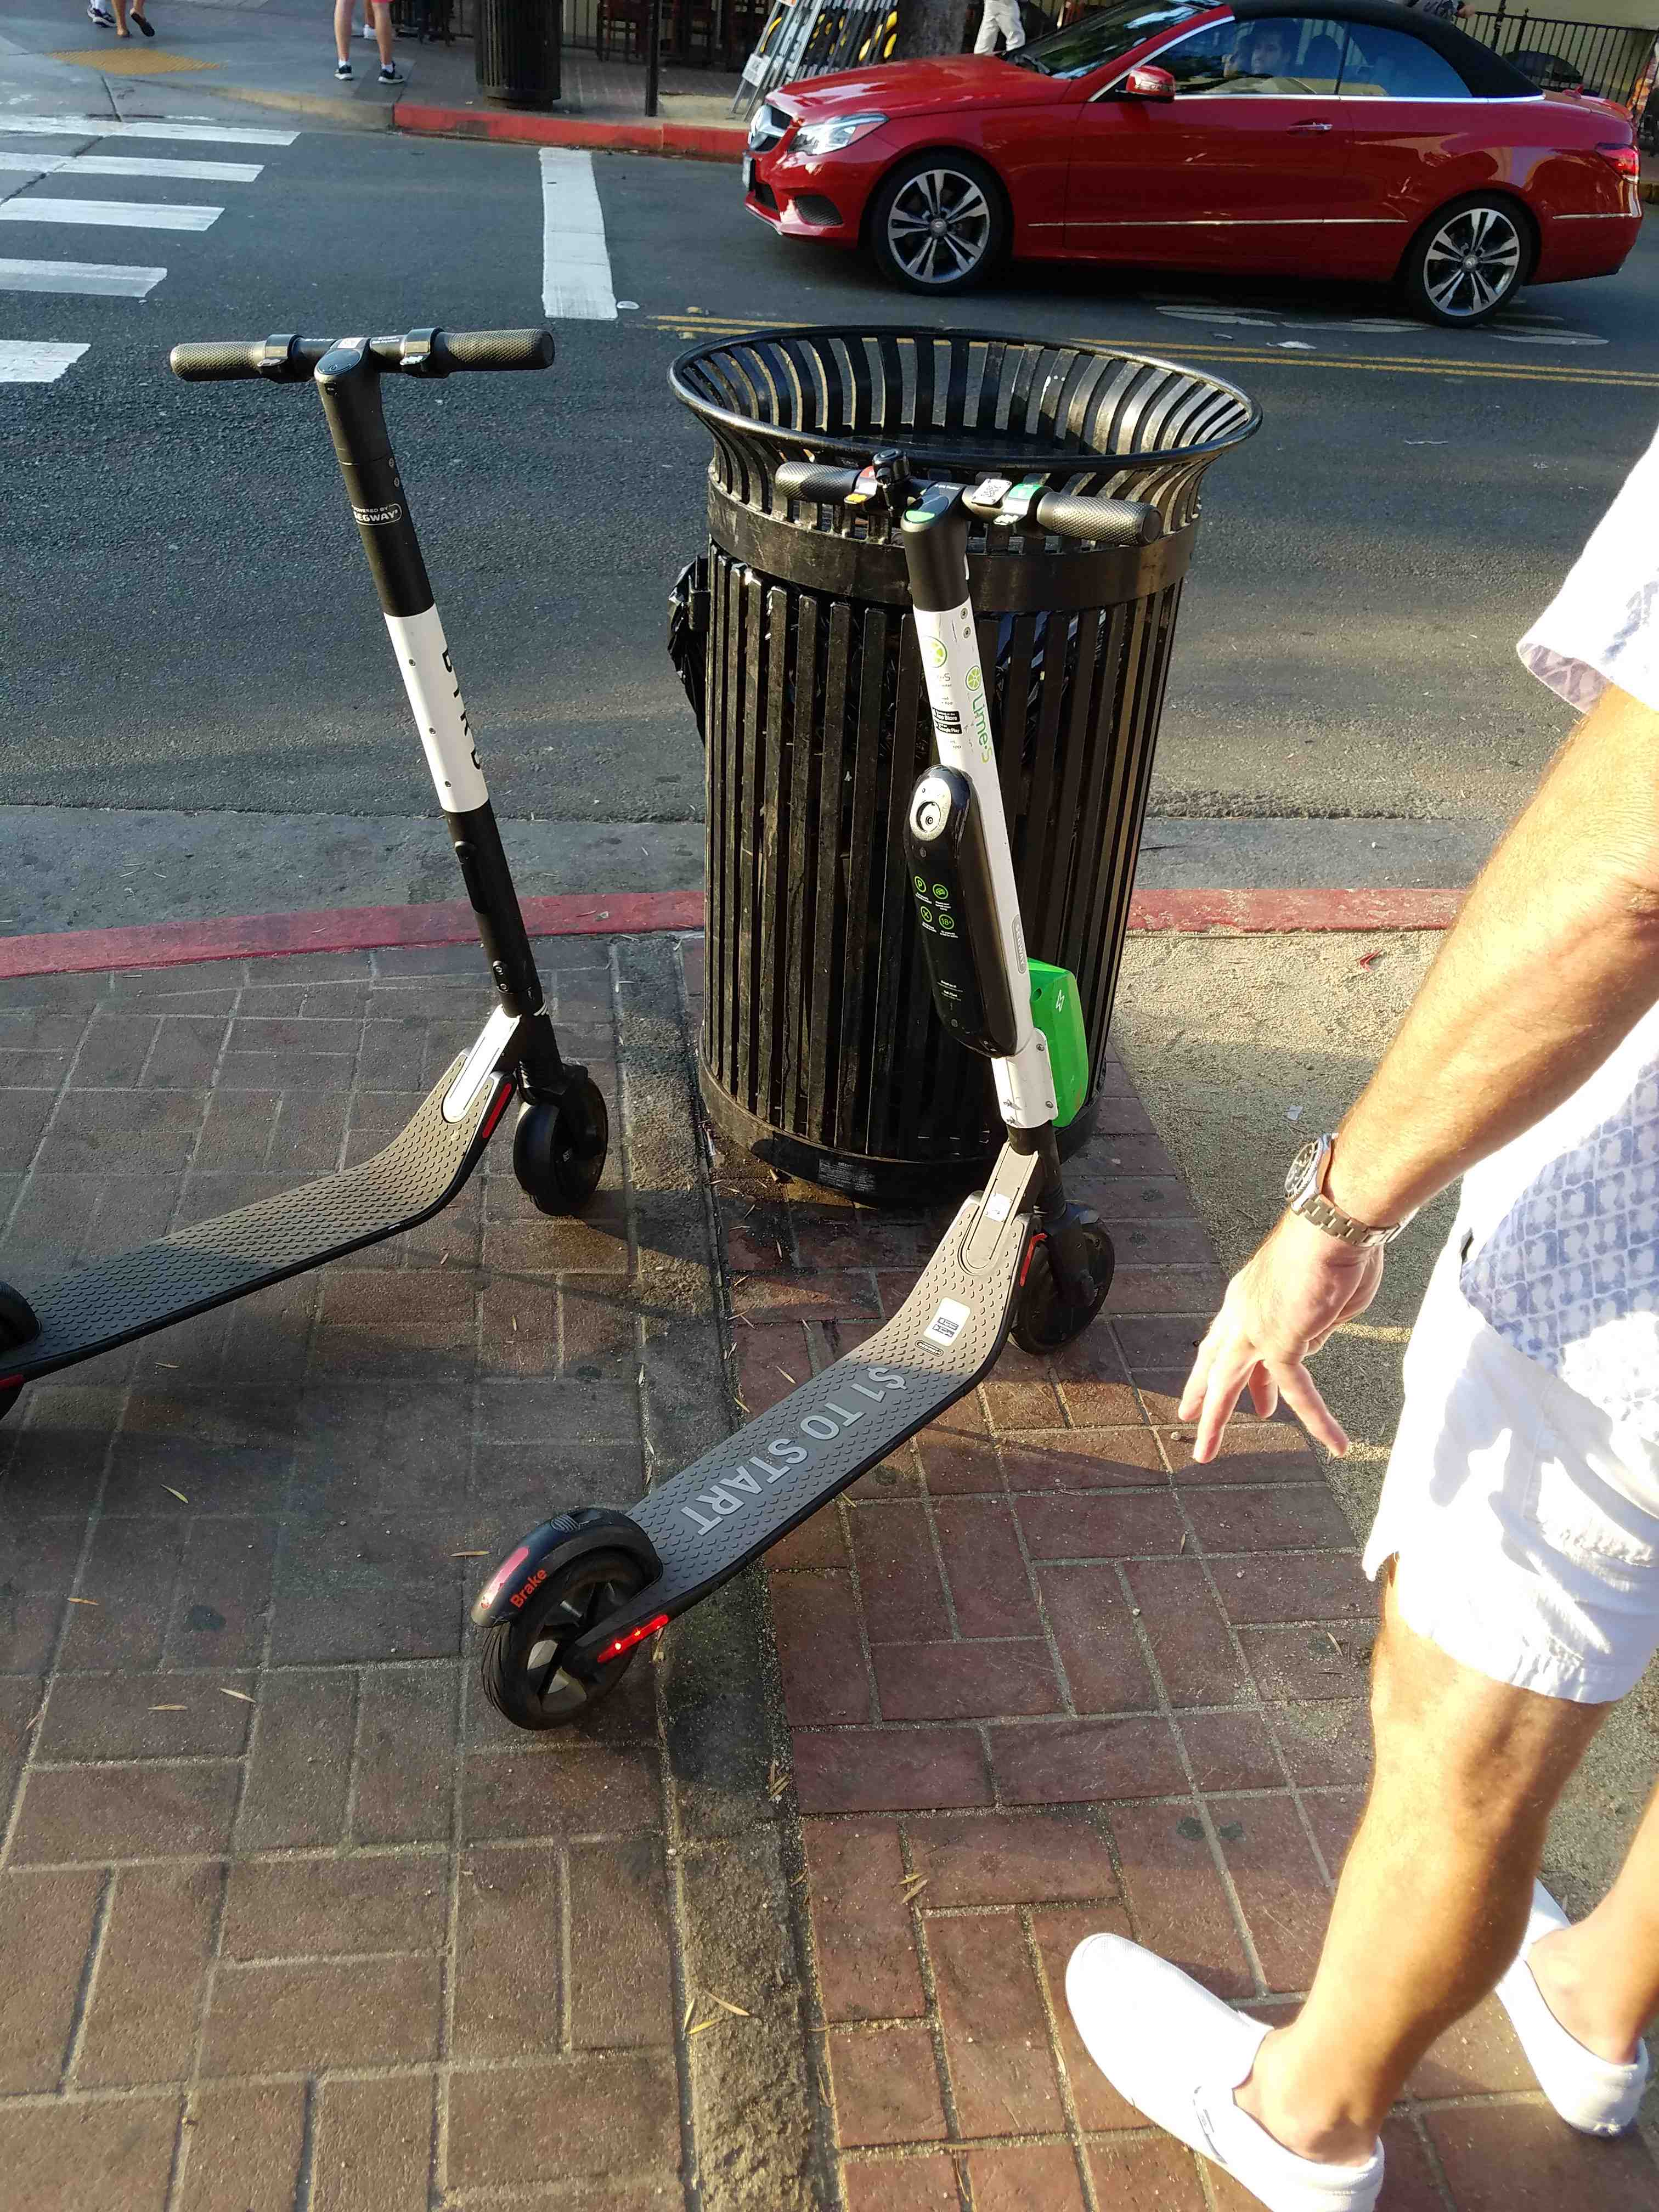scooter: (474, 399, 1180, 1743)
